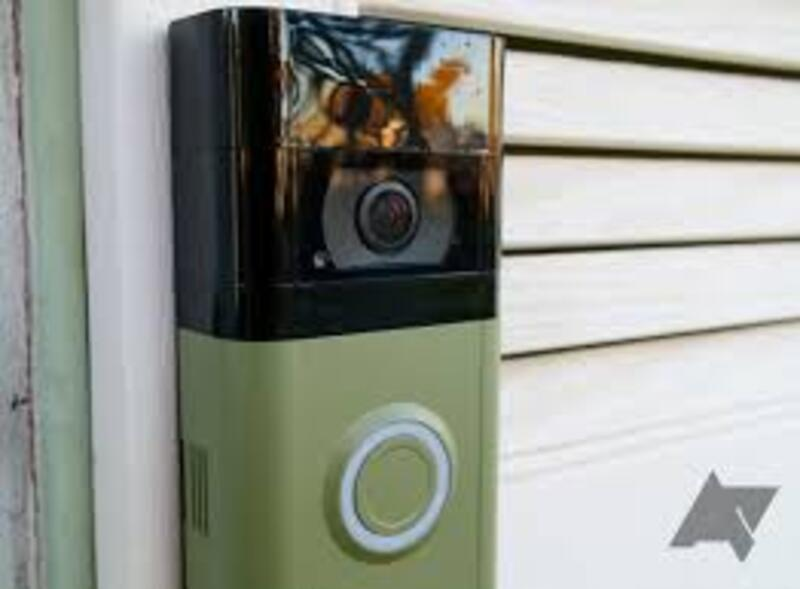doorbell: (167, 28, 508, 585)
